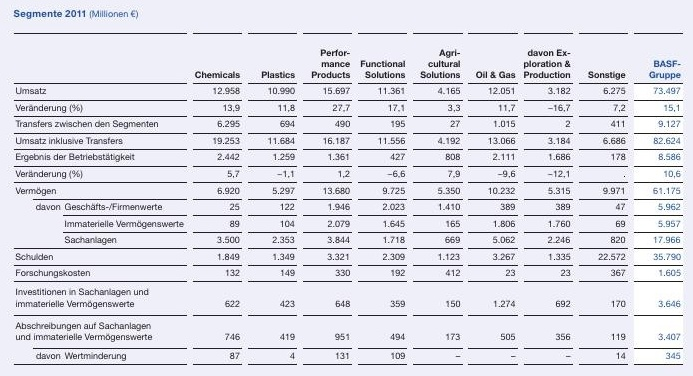table: (0, 0, 693, 376)
